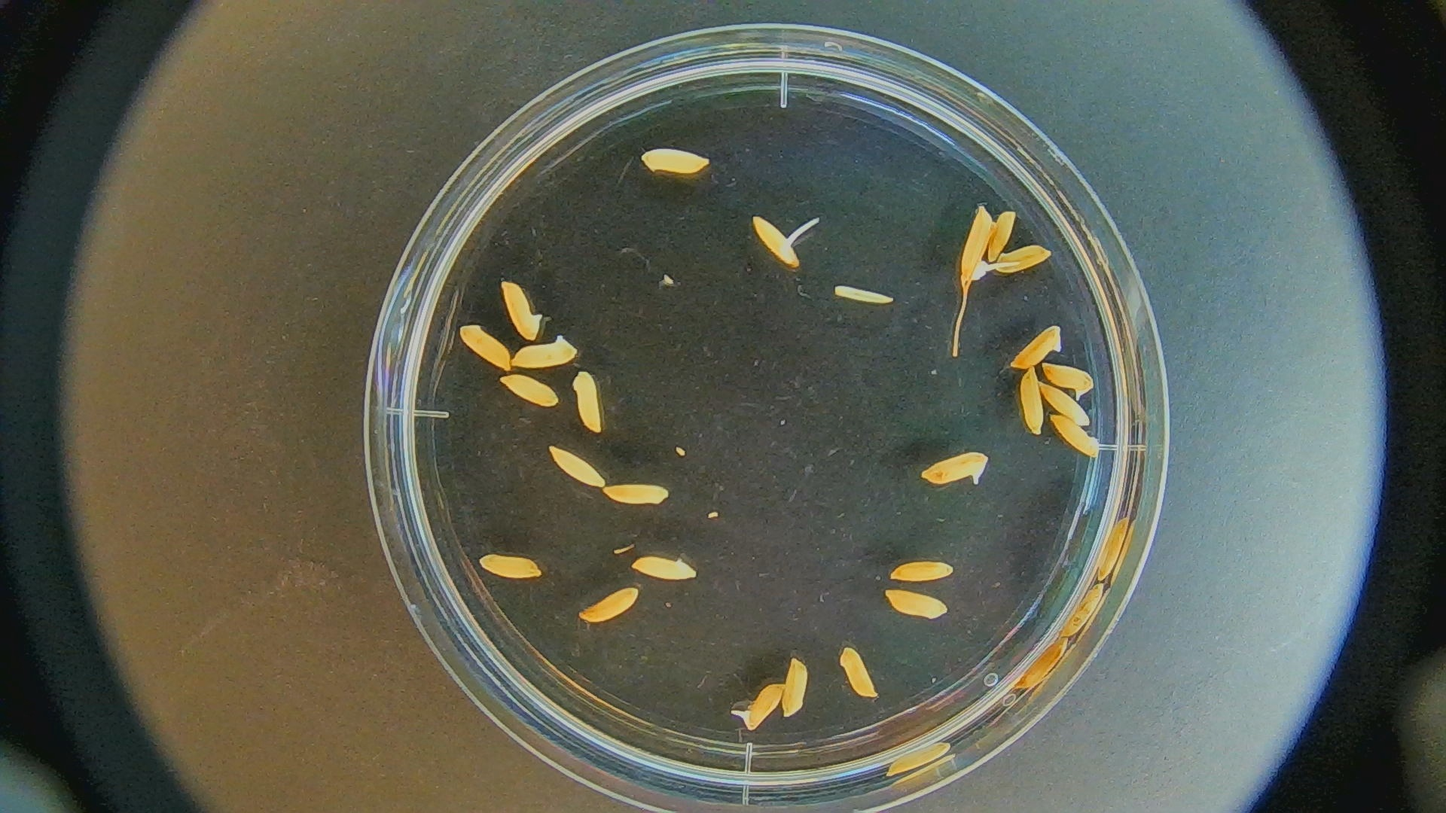no: (570, 579, 643, 626), (1013, 632, 1069, 689), (881, 739, 951, 784), (1055, 581, 1106, 639), (1045, 410, 1106, 458), (458, 317, 514, 369), (1036, 378, 1093, 428), (497, 278, 542, 340), (634, 143, 713, 178), (919, 449, 990, 487), (545, 442, 606, 486), (1089, 516, 1130, 581), (508, 336, 581, 370), (1011, 324, 1063, 370), (880, 586, 950, 620), (568, 372, 607, 432), (840, 644, 881, 701), (1039, 360, 1097, 400), (776, 658, 812, 720), (1017, 364, 1048, 435), (498, 371, 560, 406), (477, 550, 542, 583), (627, 553, 698, 583), (989, 242, 1053, 274), (596, 482, 670, 507), (886, 559, 953, 583), (986, 206, 1015, 261)
yes: (955, 201, 1016, 289), (746, 217, 801, 271), (740, 682, 781, 730)
